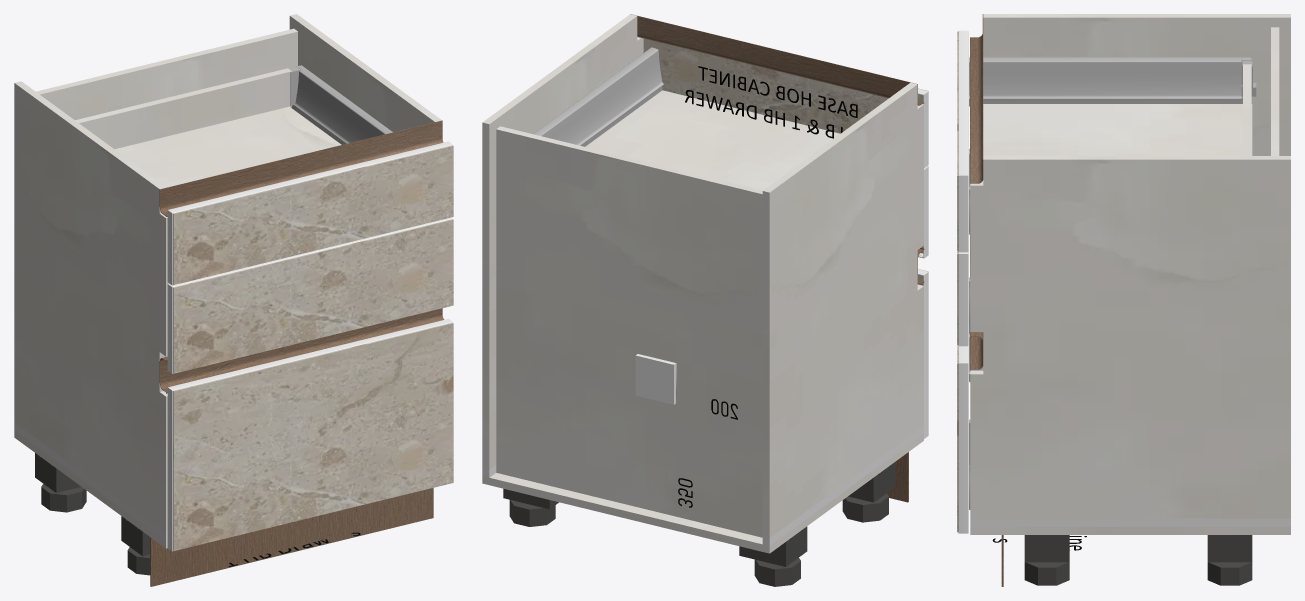
The model's file is BHC2EL1EH_CJ (H720xW600xD560).glb.
3 views of the same model, side by side, from view 1: azimuth 30°, elevation 25°; view 2: azimuth 150°, elevation 25°; view 3: azimuth 270°, elevation 25° (orthographic). The views are drawn at different scales.
Size of what is drawn, in the model's own units: 0.6 by 0.82 by 0.5809.
Materials: 11 (3 with a texture image).
